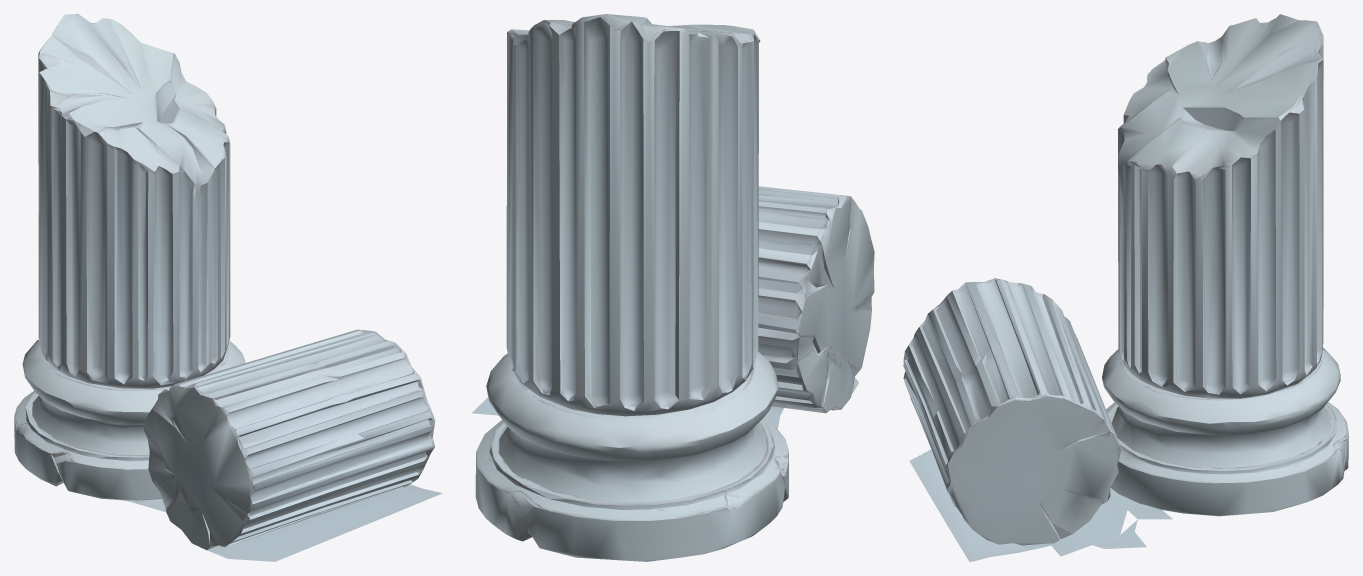
File: column_broken.glb
The picture shows the model from 3 angles, left to right: view 1: azimuth 30°, elevation 25°; view 2: azimuth 150°, elevation 25°; view 3: azimuth 270°, elevation 25°; orthographic projection. The views are drawn at different scales.
Parts seen in each view (by area): view 1: column_broken; view 2: column_broken; view 3: column_broken.
Boxes of the visible parts, x1=… form: column_broken: x1=14, y1=14, x2=442, y2=561; column_broken: x1=472, y1=14, x2=874, y2=561; column_broken: x1=903, y1=14, x2=1348, y2=561.
Bounding box in the file's own units: 1.78 × 2.4 × 2.24.
1 material, 1 textured.
